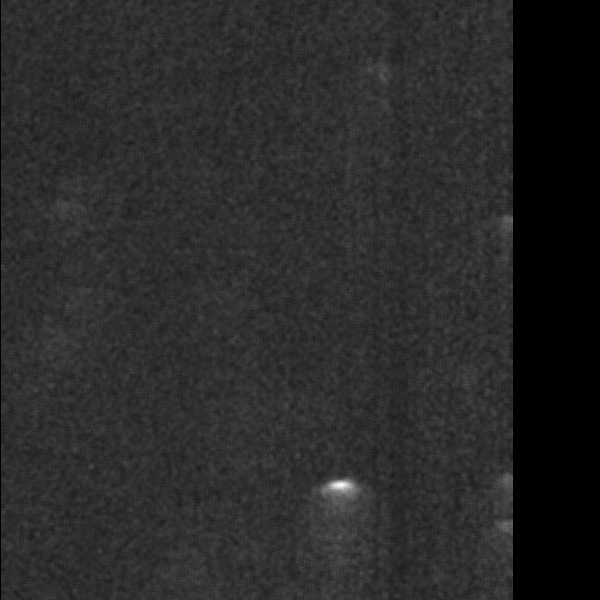spark: (297, 529, 371, 545), (319, 476, 357, 501), (498, 470, 515, 498), (499, 511, 512, 541)
